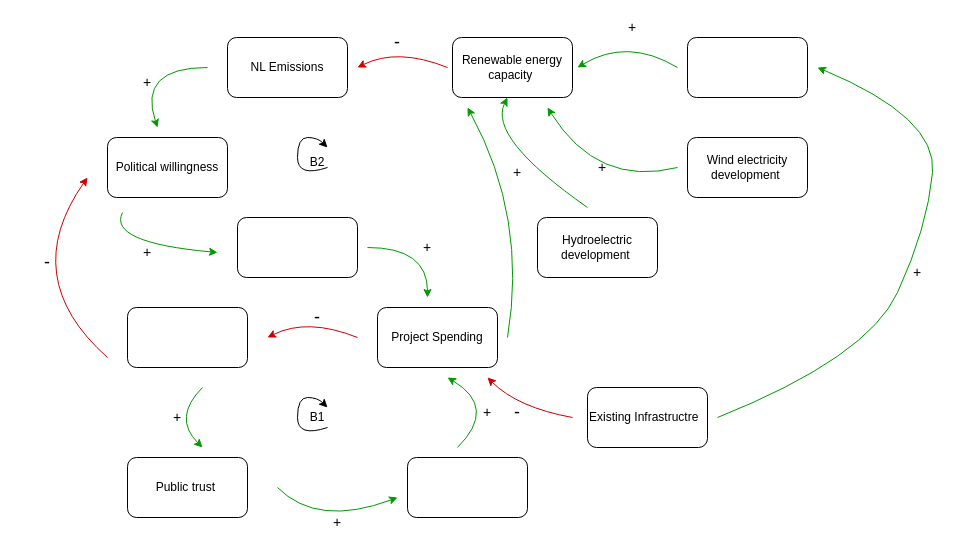
Image size: 964x554. Some labels were removed from this diagram. Here are the shapes that lost their labels. From the top down, the box of each, then its label:
(686, 36, 808, 98): Energy demand
(236, 216, 358, 278): Government Investment
(126, 306, 248, 368): Electricity rates (affordability)
(406, 456, 528, 518): Stakeholder Input
